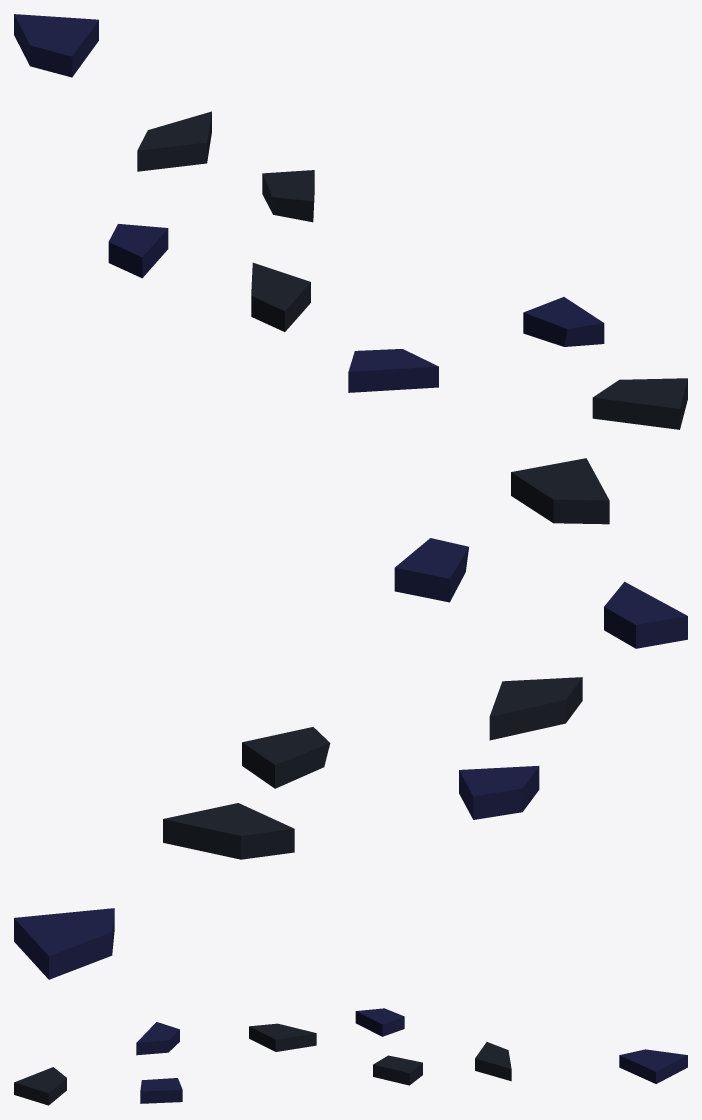
The model's file is prop_pebbles_small.FBX.
3 renders of one model, top to bottom at view 1: azimuth 30°, elevation 25°; view 2: azimuth 150°, elevation 25°; view 3: azimuth 270°, elevation 25°, orthographic. The views are drawn at different scales.
Parts seen in each view (by area): view 1: Object009; view 2: Object009; view 3: Object009.
Boxes of the visible parts, left/top/right/bottom form: Object009: left=14, top=14, right=687, bottom=429; Object009: left=14, top=458, right=687, bottom=979; Object009: left=14, top=1008, right=687, bottom=1105.
Bounding box in the file's own units: 0.4765 × 0.0365 × 1.6.
